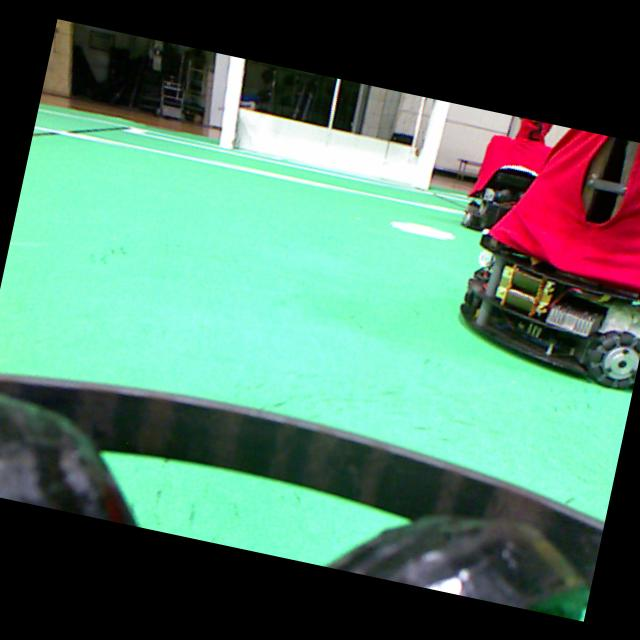goal: (412, 99, 449, 189), (218, 56, 244, 148)
